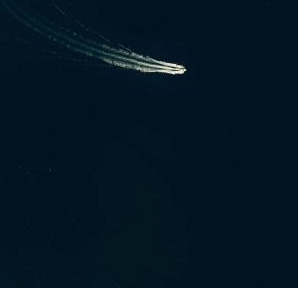ship: (175, 64, 187, 75)
